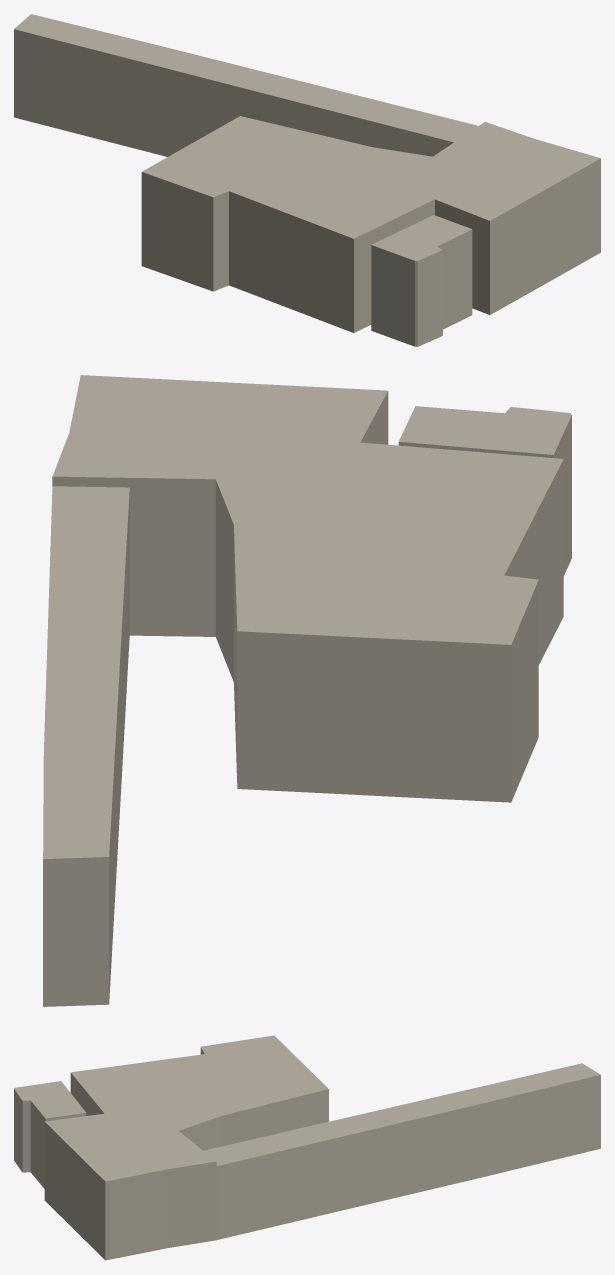
File: birgu_62_24_collision.glb
The picture shows the model from 3 angles, top to bottom: view 1: azimuth 30°, elevation 25°; view 2: azimuth 150°, elevation 25°; view 3: azimuth 270°, elevation 25°; orthographic projection. The views are drawn at different scales.
Visible parts, largest first — view 1: geometry_0; view 2: geometry_0; view 3: geometry_0.
Part boxes in pixels (x1,y1,x2,y2): geometry_0: (14,14,600,346); geometry_0: (43,375,571,1006); geometry_0: (14,1035,600,1260).
Bounding box in the file's own units: 52.74 × 13.26 × 89.45.
